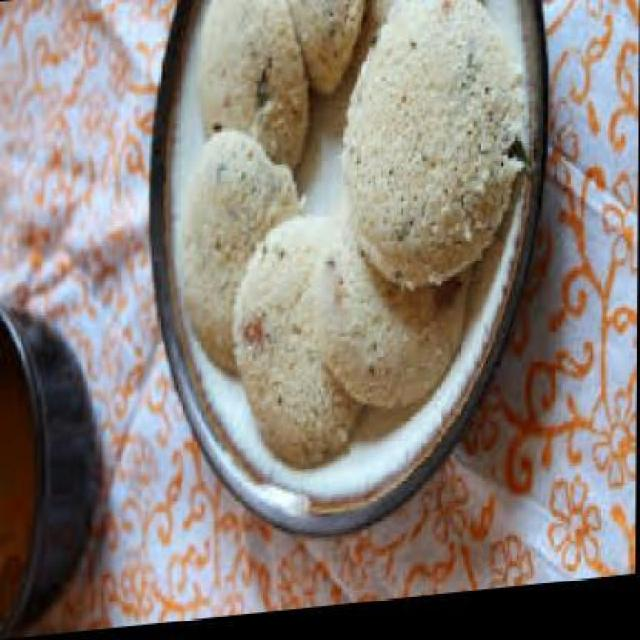idli: (342, 0, 524, 302), (232, 214, 366, 480), (312, 198, 470, 422), (175, 128, 297, 386), (196, 0, 310, 185), (275, 0, 368, 106), (353, 0, 481, 72)
